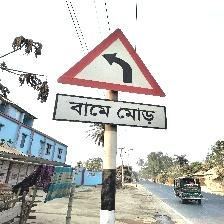Left-Turn: (54, 28, 168, 131)
